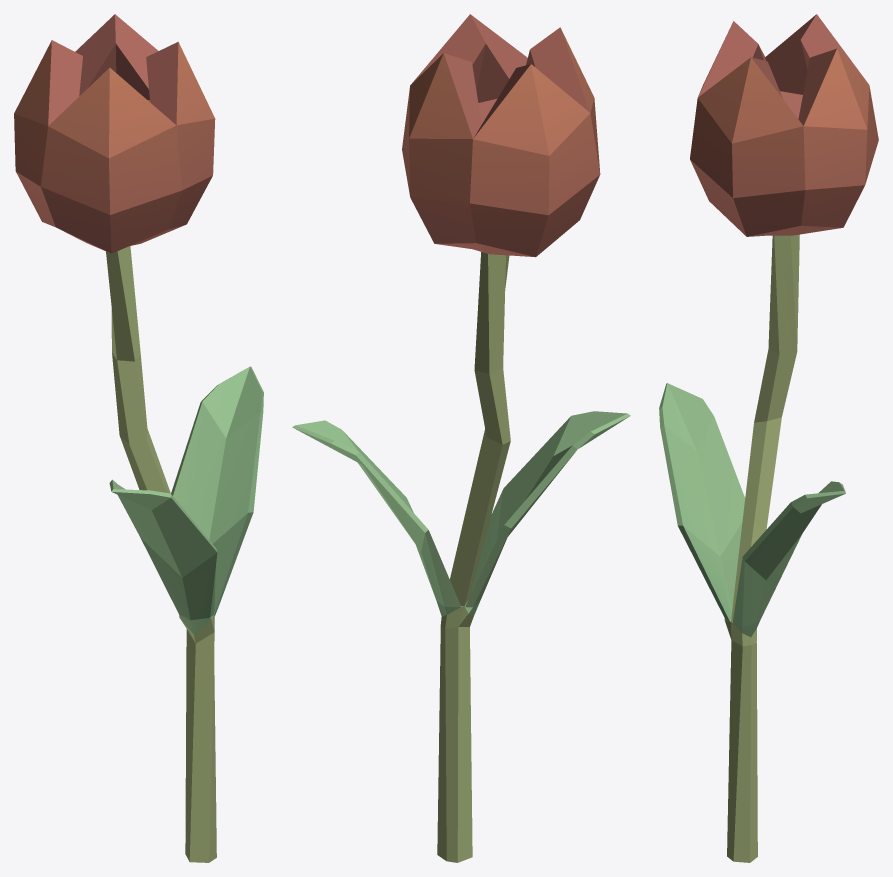
File: Tulip_Orange.fbx
The picture shows the model from 3 angles, left to right: view 1: azimuth 30°, elevation 25°; view 2: azimuth 150°, elevation 25°; view 3: azimuth 270°, elevation 25°; orthographic projection. The views are drawn at different scales.
Parts seen in each view (by area): view 1: Tulip_Orange; view 2: Tulip_Orange; view 3: Tulip_Orange.
Boxes of the visible parts, left/top/right/bottom form: Tulip_Orange: left=14, top=14, right=263, bottom=862; Tulip_Orange: left=292, top=14, right=630, bottom=862; Tulip_Orange: left=659, top=14, right=878, bottom=862.
Size of the model in its own units: 17.23 by 53.03 by 13.36.
